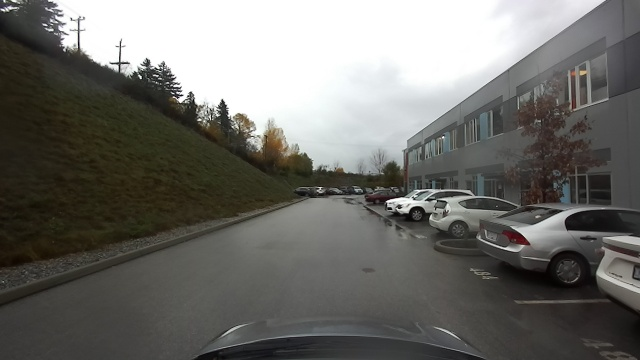car: (474, 195, 587, 285), (429, 193, 470, 240), (379, 187, 424, 222), (316, 186, 342, 196), (363, 189, 380, 204), (294, 185, 315, 196), (343, 185, 362, 195)
